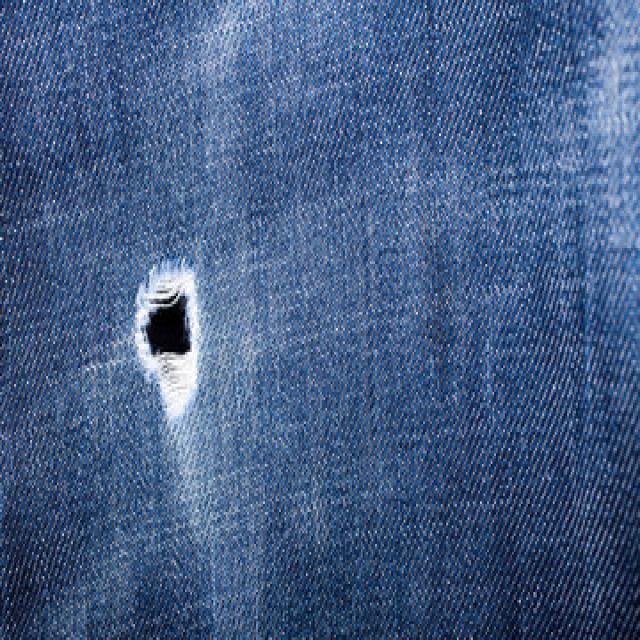Hole: (134, 260, 201, 422)
